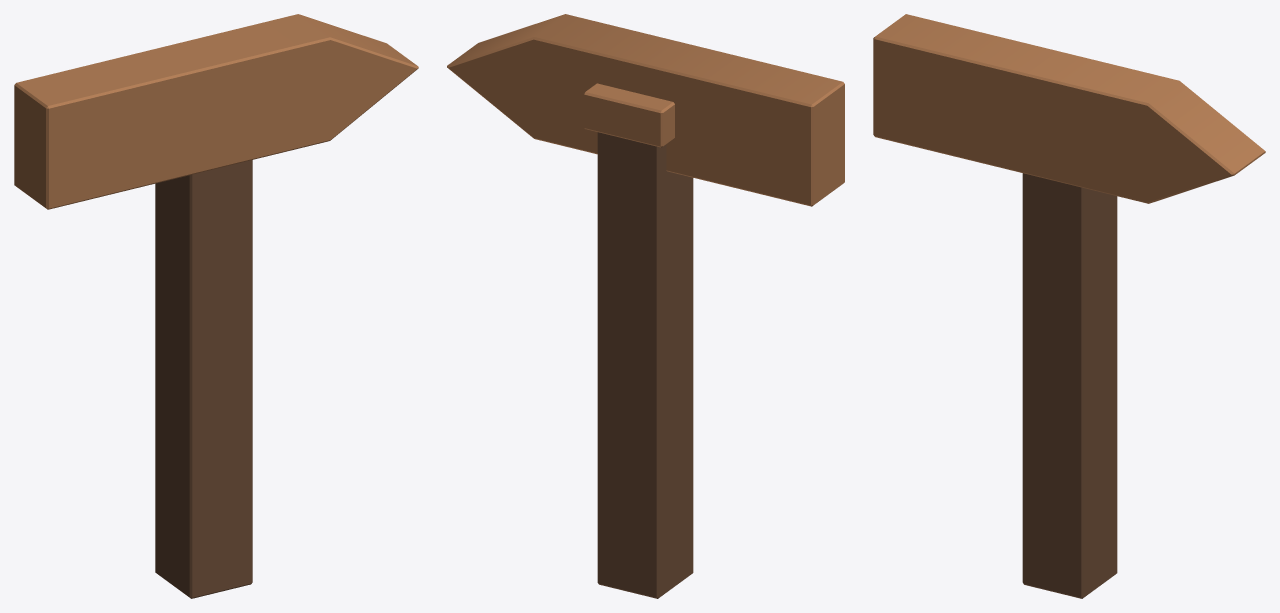
File: wood_sign_direction_01.glb
The picture shows the model from 3 angles, left to right: view 1: azimuth 30°, elevation 25°; view 2: azimuth 150°, elevation 25°; view 3: azimuth 330°, elevation 25°; orthographic projection. The views are drawn at different scales.
Visible parts, largest first — view 1: wood_sign_direction_01; view 2: wood_sign_direction_01; view 3: wood_sign_direction_01.
Boxes of the visible parts, left/top/right/bottom form: wood_sign_direction_01: left=14, top=14, right=418, bottom=598; wood_sign_direction_01: left=447, top=14, right=844, bottom=598; wood_sign_direction_01: left=873, top=14, right=1265, bottom=598.
Size of the model in its own units: 0.8265 by 1.13 by 0.18.
